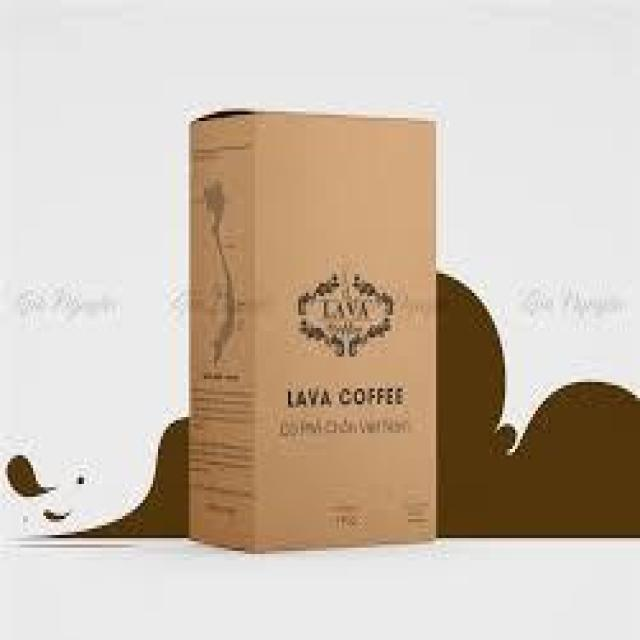box: (189, 107, 437, 554)
